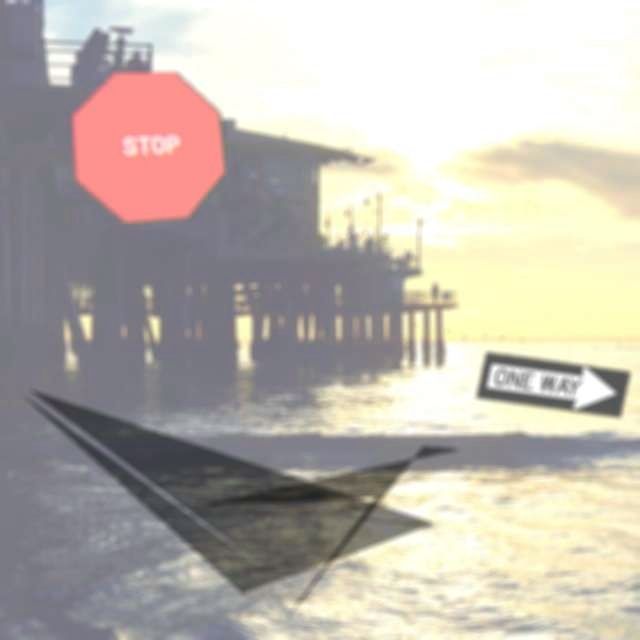ONE_WAY_ right: (475, 351, 631, 418)
STOP: (71, 71, 227, 224)
